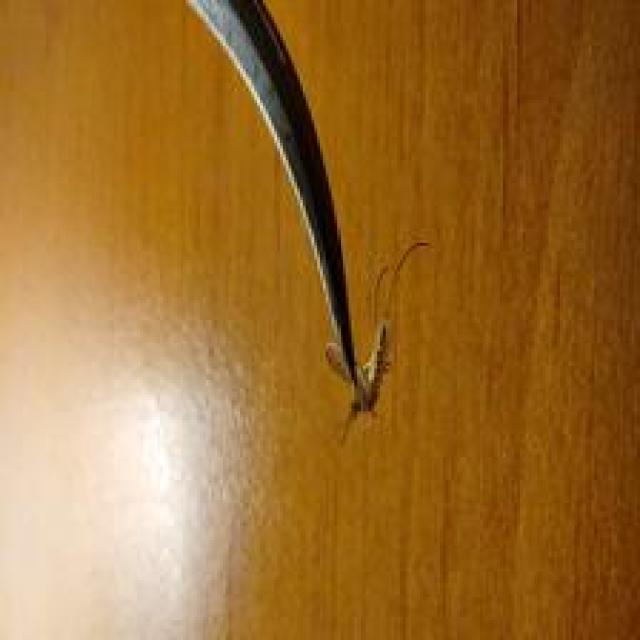Culex: (167, 0, 433, 437)
